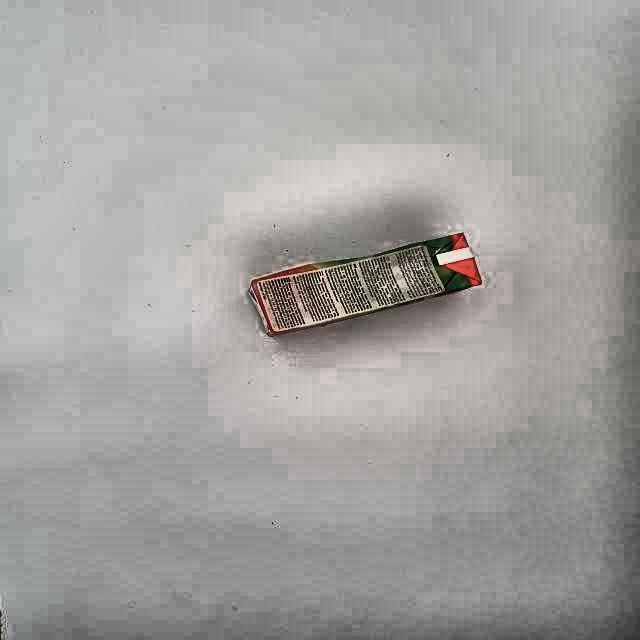cardboard: (249, 234, 484, 339)
